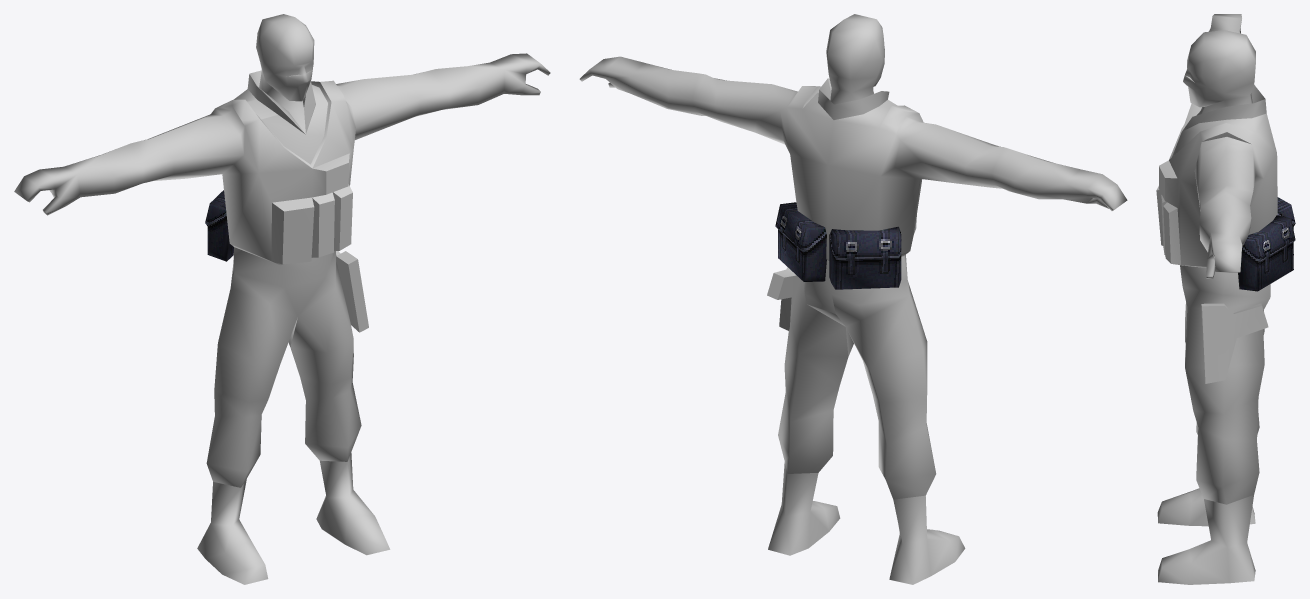
3 views of the same model, side by side, from view 1: azimuth 30°, elevation 25°; view 2: azimuth 150°, elevation 25°; view 3: azimuth 270°, elevation 25° (orthographic). The views are drawn at different scales.
Visible parts, largest first — view 1: gign, gign_defuse; view 2: gign, gign_defuse; view 3: gign, gign_defuse.
Boxes of the visible parts, x1,y1,x2,y2 form: gign: [14, 14, 550, 584]; gign_defuse: [205, 190, 233, 261]; gign: [579, 14, 1127, 584]; gign_defuse: [775, 202, 901, 289]; gign: [1156, 14, 1277, 584]; gign_defuse: [1238, 197, 1295, 291].
Size of the model in its own units: 72.72 by 69.27 by 17.06.
